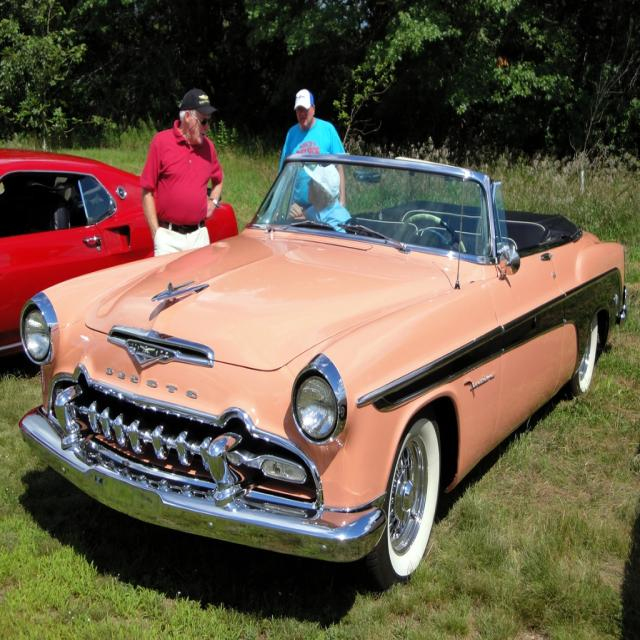car: (9, 168, 617, 596)
